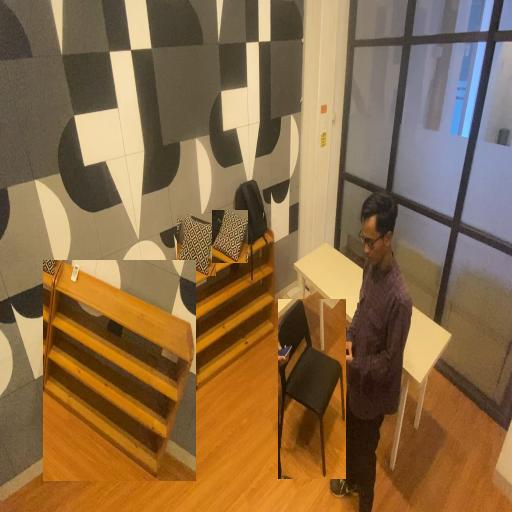bantal: (177, 214, 216, 276), (212, 210, 248, 263)
hp: (332, 340, 350, 364)
kursi: (278, 299, 346, 479)
lemari: (43, 260, 196, 481)
remote AC: (159, 262, 169, 286)
tas ransel: (233, 173, 275, 250)
